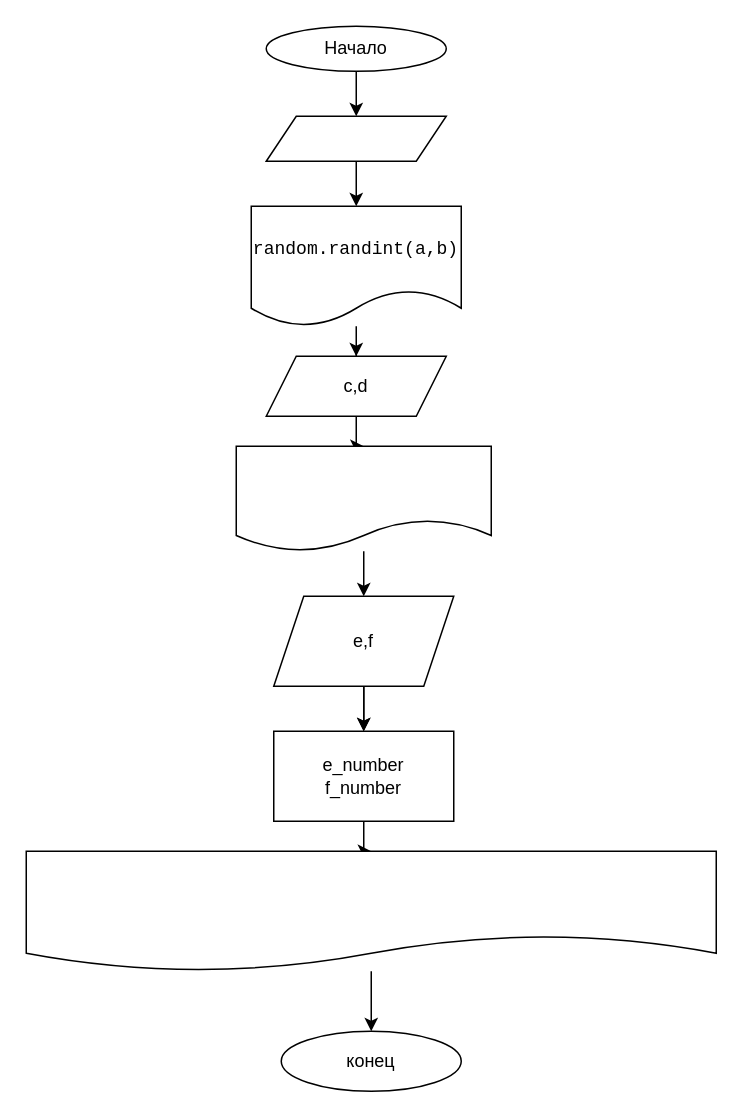
Image size: 743x1118. Some labels were removed from this diagram. The box of each missing label's shape, as (x1, y1, x2, y2) in pixels:
a, b: (265, 115, 446, 161)
random.choice(string.ascii_letters[e_number:(f_number+1)]): (25, 850, 716, 971)
random.random()*(d-c)+c: (235, 445, 491, 551)
